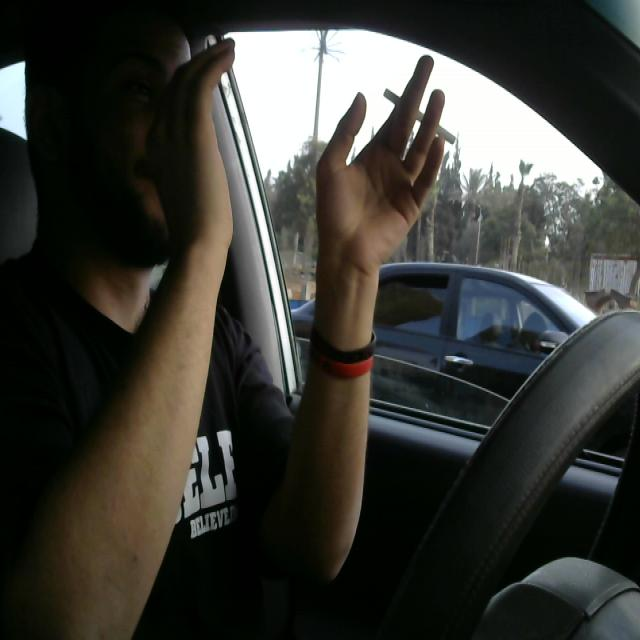smoking: (376, 68, 457, 157)
